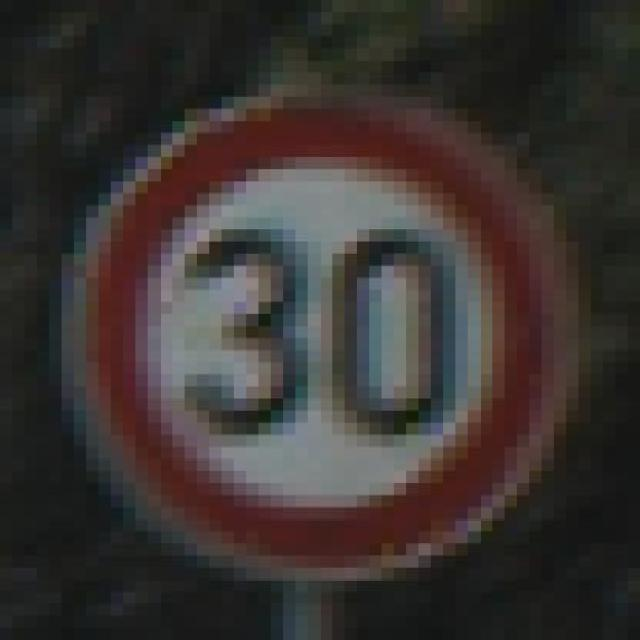Speed Limit 30 KMPh: (49, 72, 603, 592)
